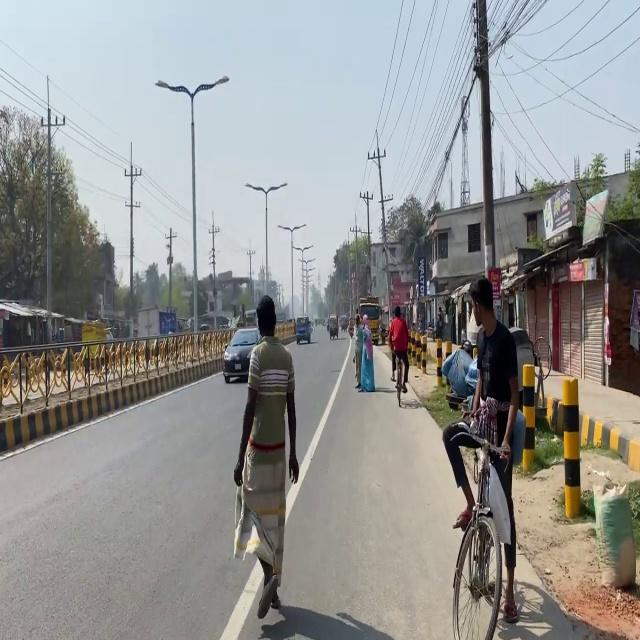Bench: (514, 348, 608, 526)
Garbage-bin: (441, 277, 521, 623), (233, 294, 299, 617), (387, 305, 409, 393)
Light-pole: (471, 0, 497, 277)
Pole: (0, 332, 222, 466)
Pothole: (404, 328, 640, 633)
Traffic-cone: (357, 295, 383, 344)
